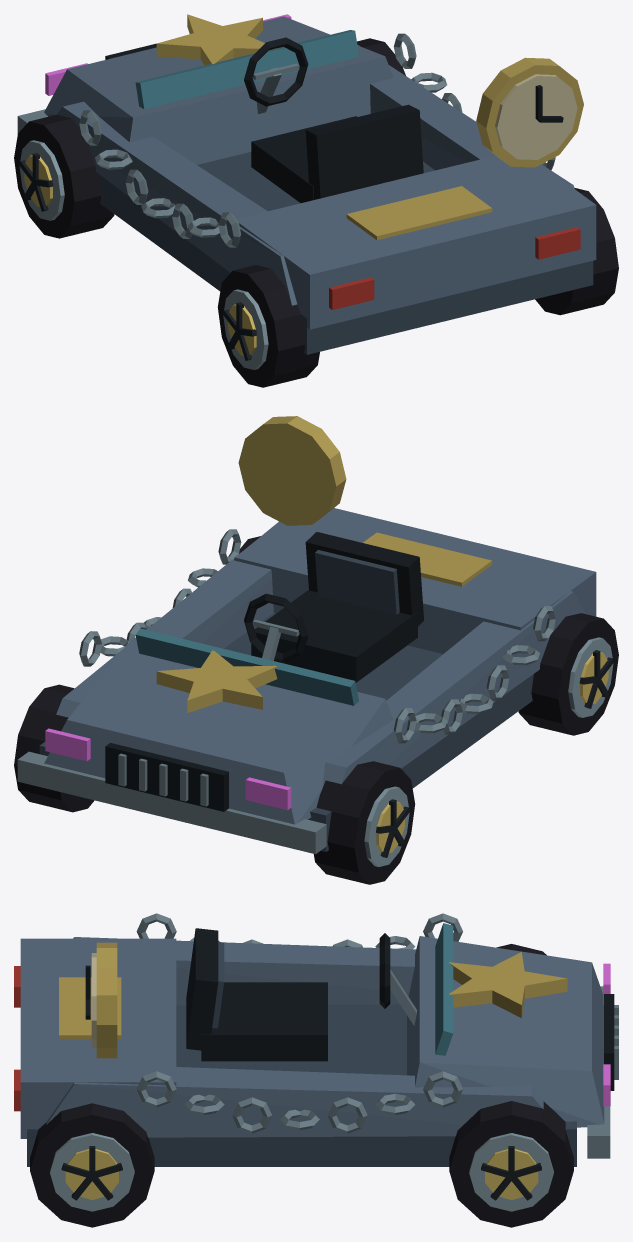
File: kart.glb
The picture shows the model from 3 angles, top to bottom: view 1: azimuth 30°, elevation 25°; view 2: azimuth 150°, elevation 25°; view 3: azimuth 270°, elevation 25°; orthographic projection. The views are drawn at different scales.
Parts seen in each view (by area): view 1: identity-sedan-sedan-road-car-body, identity-sedan-driver-cockpit, identity-sedan-motif-clock, wheel-front-left, wheel-rear-left, identity-sedan-motif-chains, identity-sedan-motif-star, wheel-rear-right, wheel-front-right; view 2: identity-sedan-sedan-road-car-body, identity-sedan-driver-cockpit, wheel-front-left, identity-sedan-motif-clock, wheel-rear-left, identity-sedan-motif-chains, identity-sedan-motif-star, wheel-front-right; view 3: identity-sedan-sedan-road-car-body, identity-sedan-driver-cockpit, wheel-front-right, wheel-rear-right, identity-sedan-motif-chains, identity-sedan-motif-star, identity-sedan-motif-clock.
Boxes of the visible parts, box(x1,y1,x2,y2) form: identity-sedan-sedan-road-car-body: box(17, 14, 596, 354); identity-sedan-driver-cockpit: box(244, 37, 423, 202); identity-sedan-motif-clock: box(476, 57, 583, 167); wheel-front-left: box(14, 114, 114, 238); wheel-rear-left: box(217, 265, 319, 387); identity-sedan-motif-chains: box(79, 33, 555, 247); identity-sedan-motif-star: box(156, 14, 276, 65); wheel-rear-right: box(535, 188, 618, 315); wheel-front-right: box(357, 38, 405, 75); identity-sedan-sedan-road-car-body: box(17, 508, 596, 854); identity-sedan-driver-cockpit: box(244, 532, 423, 682); wheel-front-left: box(313, 761, 415, 884); identity-sedan-motif-clock: box(238, 416, 346, 525); wheel-rear-left: box(518, 613, 618, 735); identity-sedan-motif-chains: box(79, 529, 555, 743); identity-sedan-motif-star: box(156, 650, 277, 712); wheel-front-right: box(14, 684, 94, 812); identity-sedan-sedan-road-car-body: box(14, 923, 618, 1166); identity-sedan-driver-cockpit: box(186, 928, 416, 1061); wheel-front-right: box(449, 1101, 573, 1227); wheel-rear-right: box(30, 1103, 154, 1227); identity-sedan-motif-chains: box(136, 913, 462, 1133); identity-sedan-motif-star: box(449, 952, 567, 1017); identity-sedan-motif-clock: box(85, 942, 117, 1058).
Bounding box in the file's own units: 2.07 × 1.35 × 2.92.
